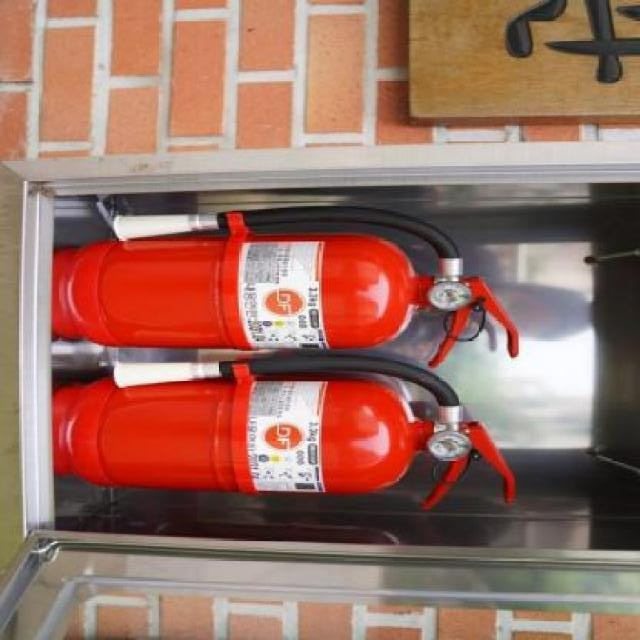fire extinguisher: (51, 206, 520, 368), (52, 355, 517, 510)
